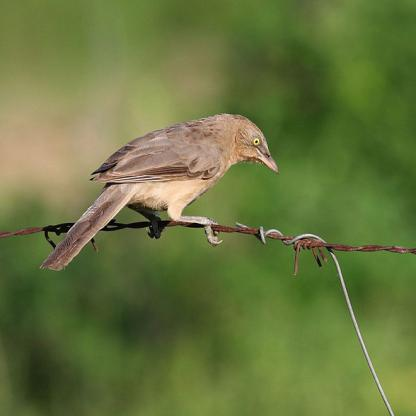Burung: (40, 113, 279, 272)
